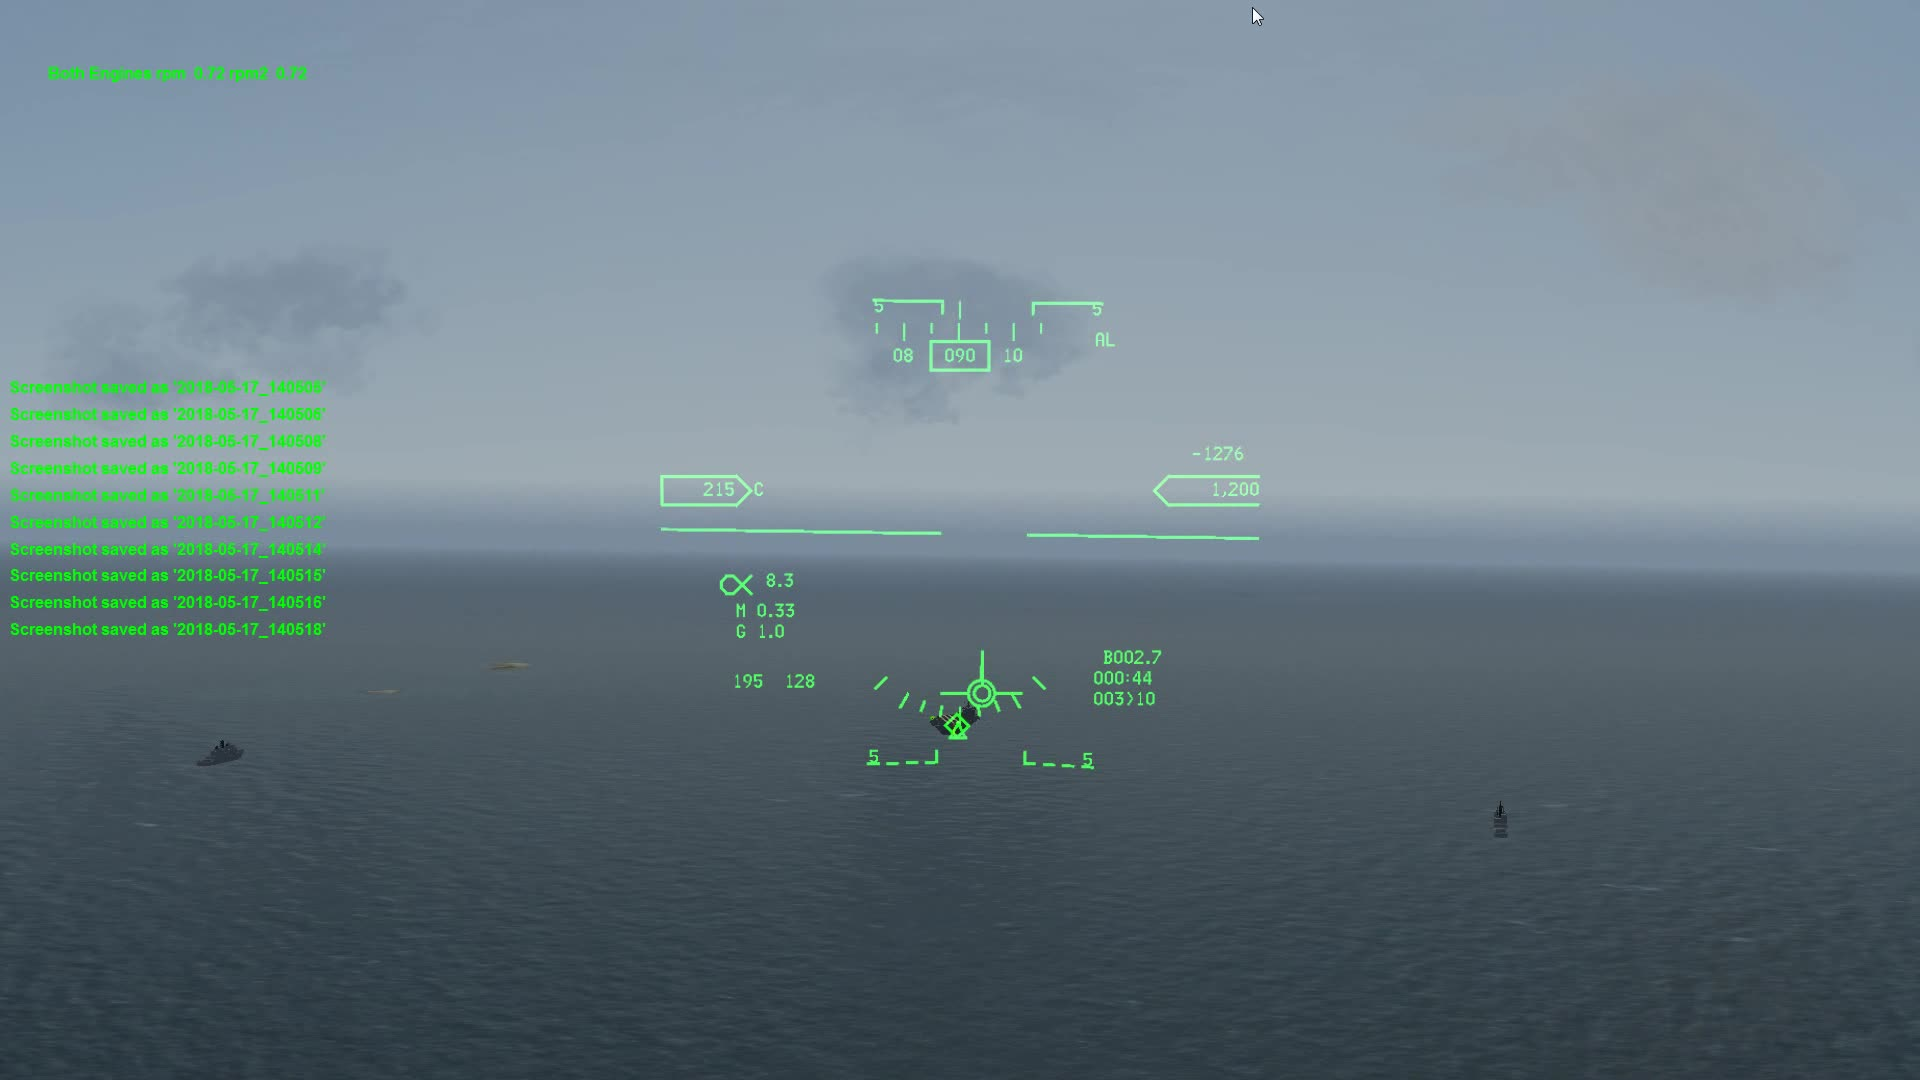speed vector: (934, 655, 1021, 713)
